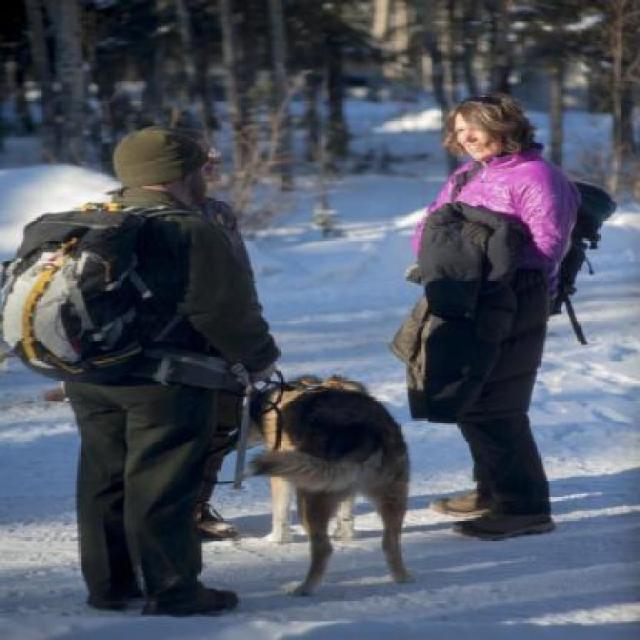backpack: (0, 202, 162, 388)
